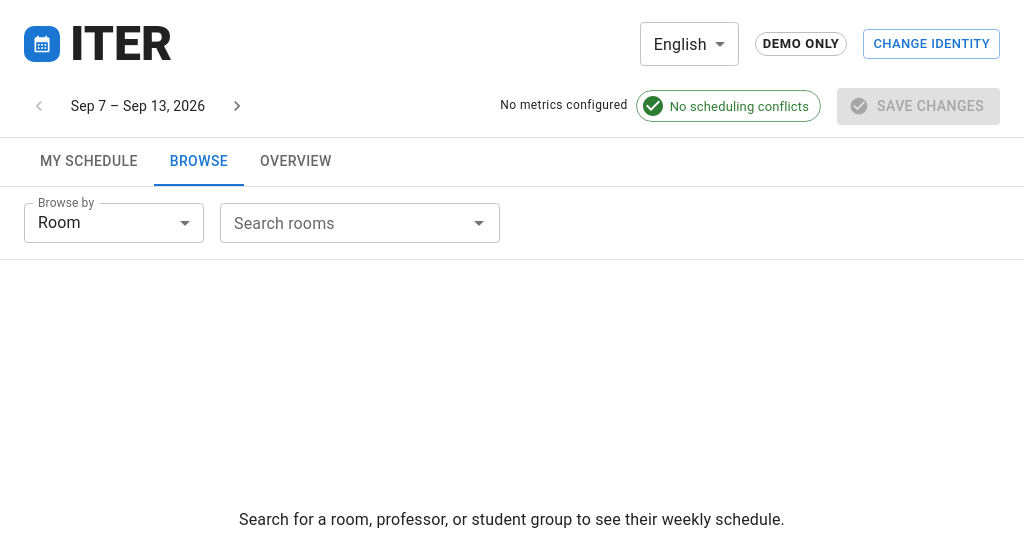
Test: TimetablePage — week navigation › does not show the WeekNavigator on the Overview tab
This screenshot has width=1024, height=545.
Expected: the text "Sep 7 – Sep 13, 2026" is shown, x1=71 y1=98 x2=205 y2=114
Click the tab "Overview". click: (296, 162)
box: x1=244 y1=138 x2=348 y2=186
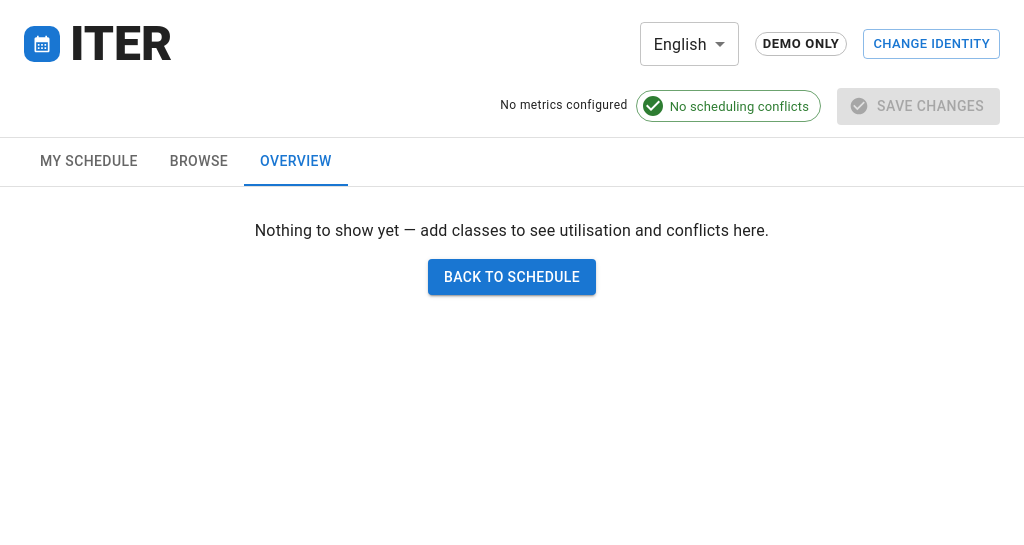
Result: the text "Sep 7 – Sep 13, 2026" is gone
